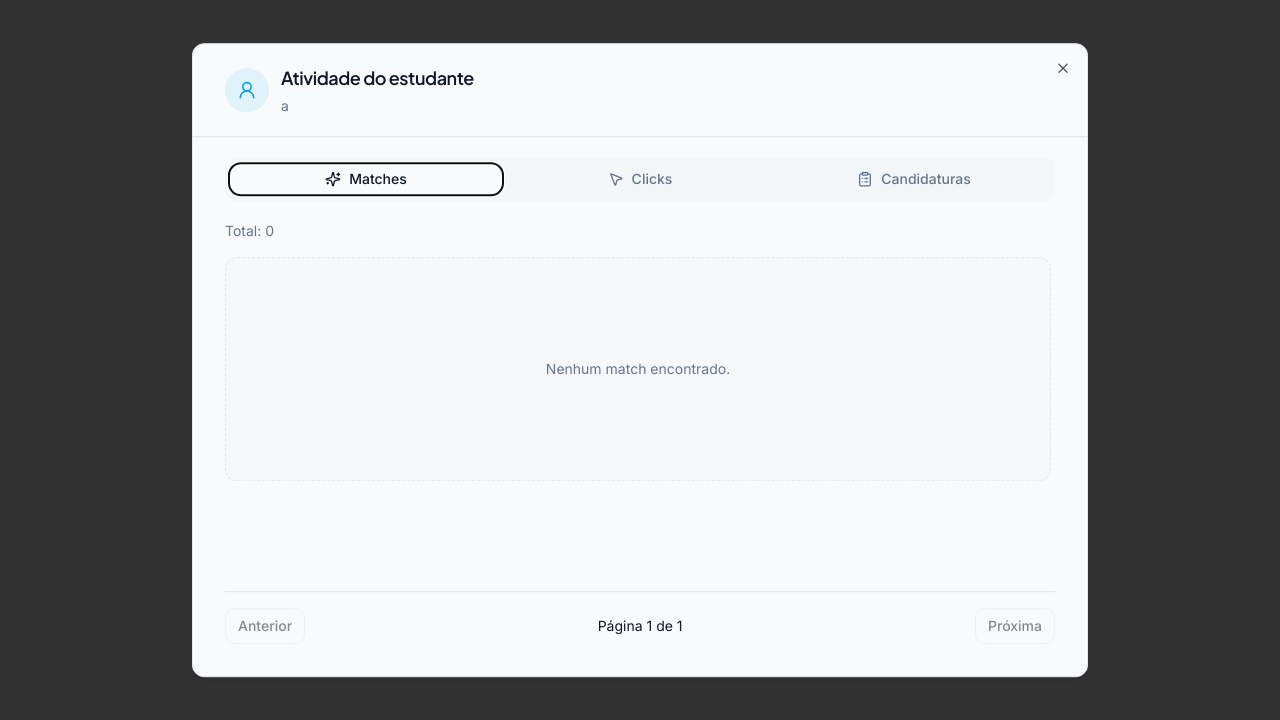
Test: keeps other collections usable after one fails and retries that collection only
The width and height of the screenshot is (1280, 720).
Expected: the text "Nenhum match encontrado." is shown, 225,257 -> 1051,481
Press the mouse on the tab "Clicks": (640,179) 503,163 -> 777,195
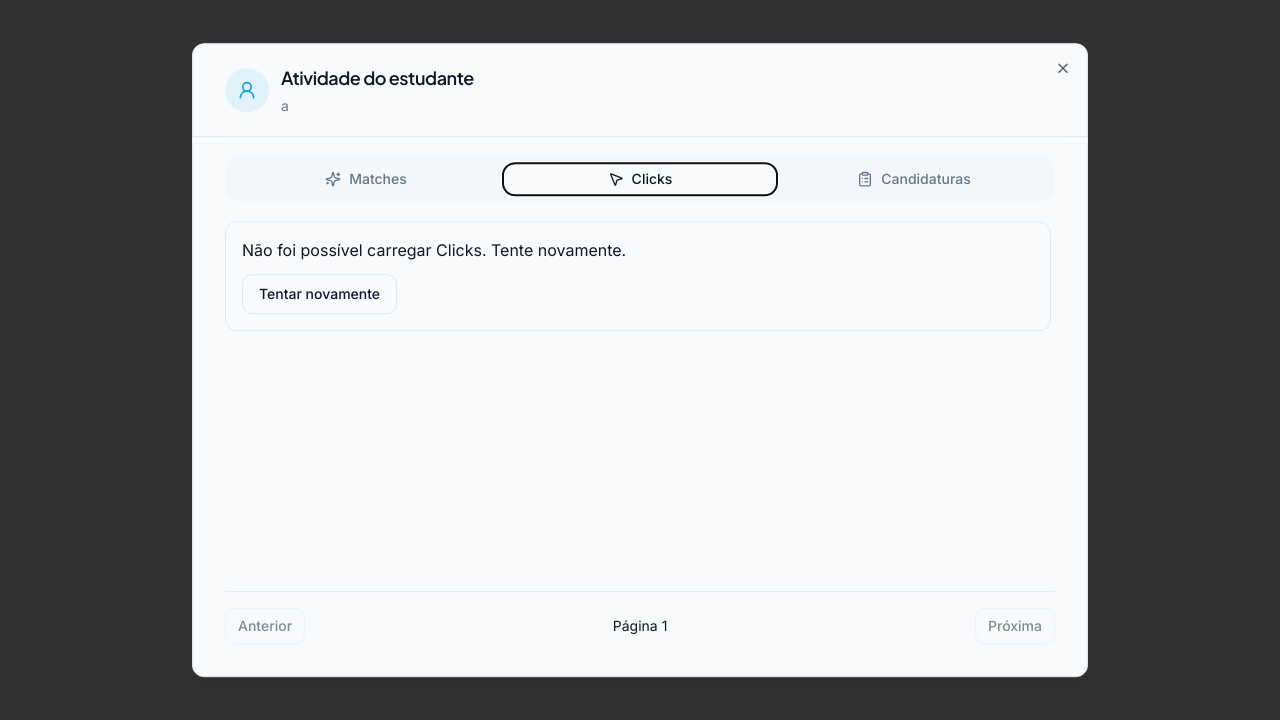
Result: the message shows "Não foi possível carregar Clicks" at 225,221 -> 1051,331
Press the mouse on the tab "Candidaturas": (914,179) 777,163 -> 1051,195
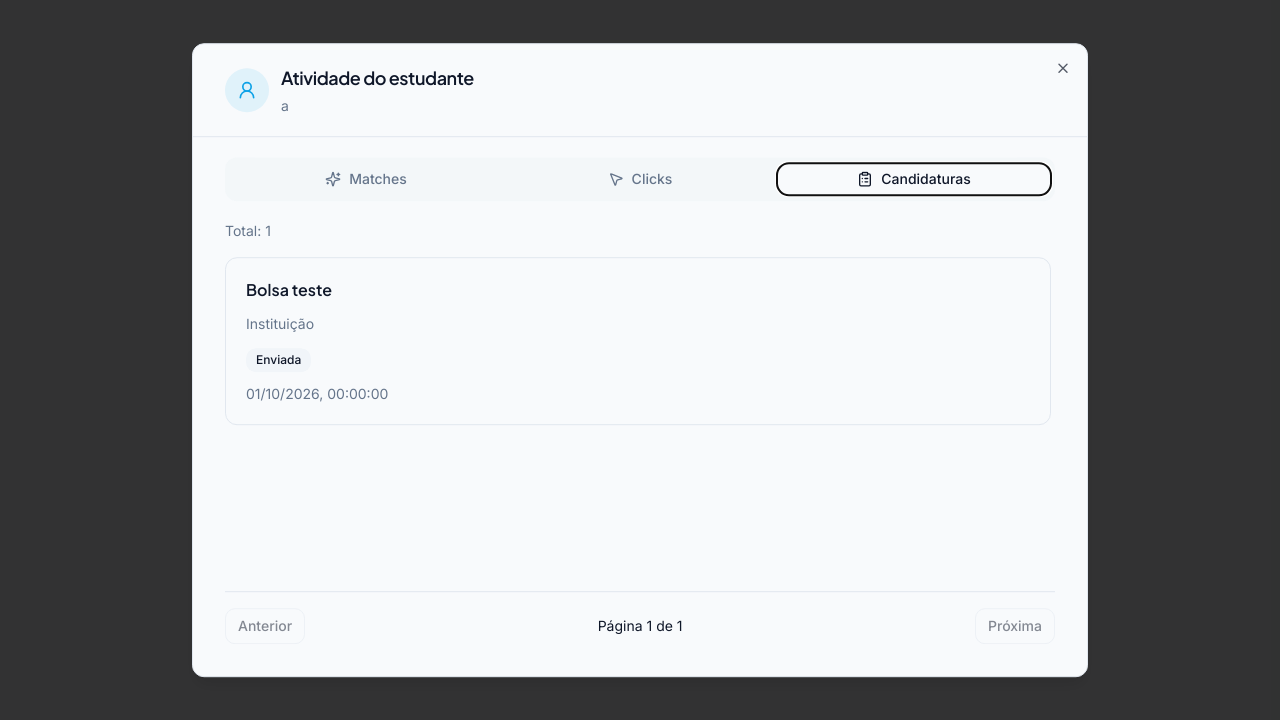
Result: the heading "Bolsa teste" is shown at 246,279 -> 332,300
Result: the text "Enviada" is shown at 246,348 -> 311,372
Press the mouse on the tab "Clicks": (640,179) 503,163 -> 777,195
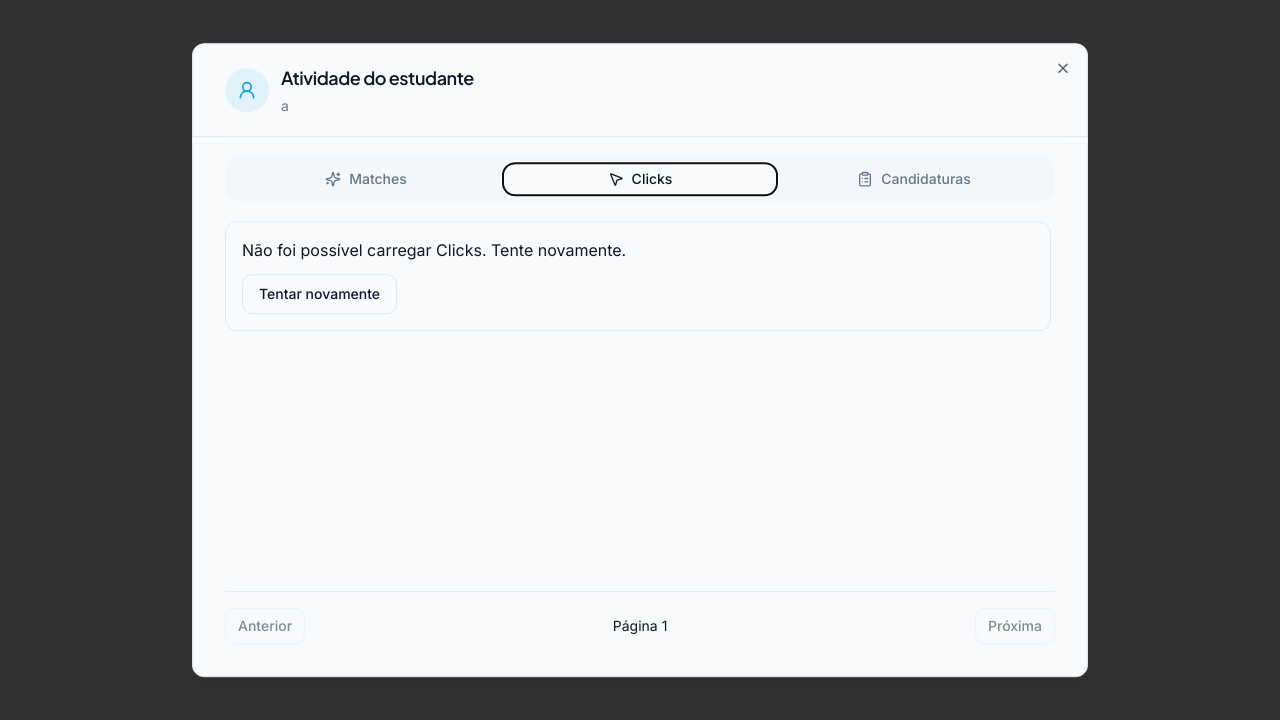
Click the button "Tentar novamente": (320,294) 242,274 -> 397,314
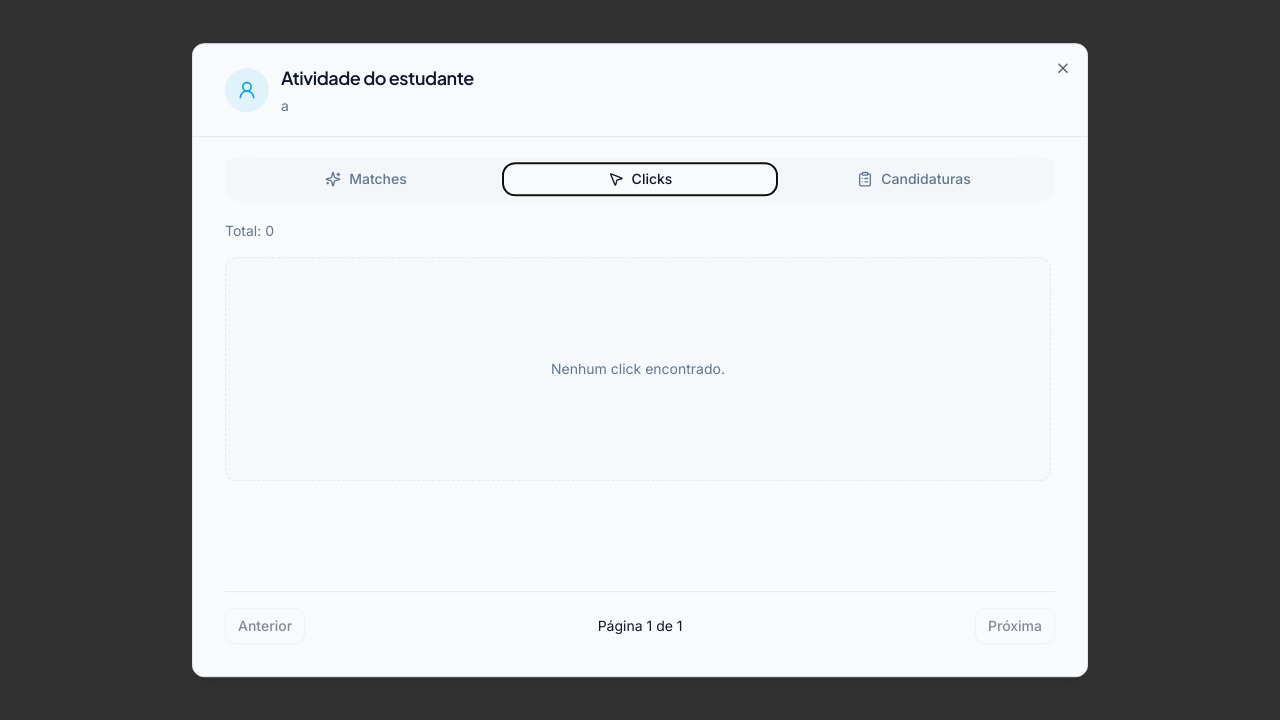
Result: the text "Nenhum click encontrado." is shown at 225,257 -> 1051,481
